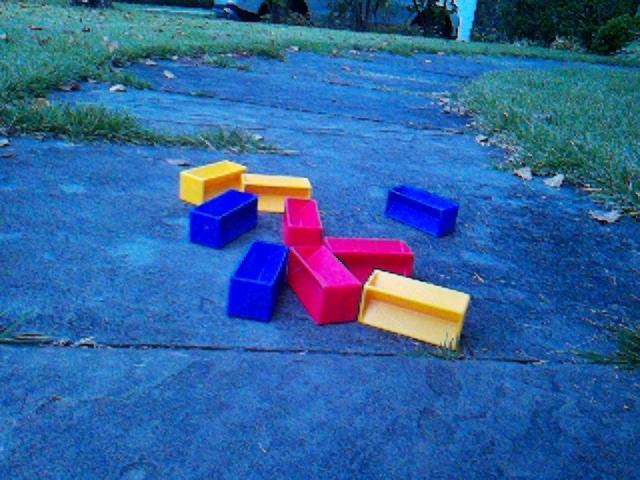blue: (226, 239, 290, 323), (188, 187, 260, 250), (383, 182, 461, 239)
red: (286, 243, 362, 325), (324, 235, 416, 284), (282, 196, 324, 247)
yellow: (357, 267, 472, 354), (179, 158, 247, 206), (242, 172, 313, 214)
